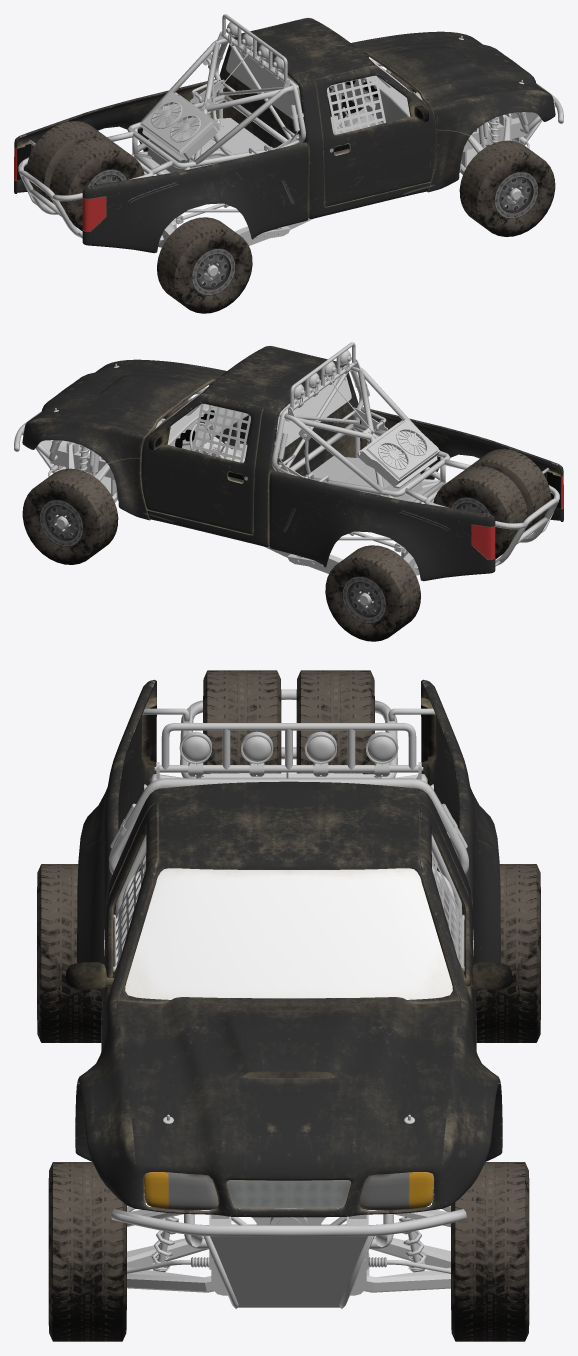
The model's file is truck.fbx.
The picture shows the model from 3 angles, top to bottom: view 1: azimuth 30°, elevation 25°; view 2: azimuth 150°, elevation 25°; view 3: azimuth 270°, elevation 25°; orthographic projection. The views are drawn at different scales.
Parts seen in each view (by area): view 1: rear right panel, truck, hood, right door, tubular frame, front wheels, rear wheels, backup wheels, radiator, rear left panel, window net.001, fuel tank (+4 smaller); view 2: rear left panel, truck, hood, left door, tubular frame, front wheels, rear wheels, backup wheels, radiator, rear right panel, window net, fuel tank (+4 smaller); view 3: hood, truck, front wheels, tubular frame, rear wheels, backup wheels, skidplate, rear right panel, rear left panel, right door, left door, bottom control arm (+7 smaller).
Part boxes in pixels (left/top/right/bottom): rear right panel: left=82, top=142, right=308, bottom=253; truck: left=219, top=18, right=470, bottom=218; hood: left=351, top=31, right=555, bottom=135; right door: left=314, top=66, right=436, bottom=206; tubular frame: left=18, top=14, right=563, bottom=238; front wheels: left=391, top=72, right=555, bottom=236; rear wheels: left=73, top=217, right=252, bottom=313; backup wheels: left=26, top=121, right=144, bottom=230; radiator: left=140, top=91, right=220, bottom=161; rear left panel: left=14, top=79, right=217, bottom=193; window net.001: left=327, top=75, right=385, bottom=134; fuel tank: left=147, top=117, right=269, bottom=172; rear left panel: left=269, top=470, right=495, bottom=581; truck: left=107, top=346, right=358, bottom=546; hood: left=22, top=359, right=226, bottom=463; left door: left=141, top=394, right=263, bottom=534; tubular frame: left=14, top=342, right=559, bottom=566; front wheels: left=22, top=400, right=186, bottom=564; rear wheels: left=325, top=545, right=503, bottom=641; backup wheels: left=433, top=449, right=551, bottom=558; radiator: left=357, top=419, right=439, bottom=488; rear right panel: left=360, top=407, right=563, bottom=521; window net: left=192, top=403, right=250, bottom=462; fuel tank: left=311, top=456, right=422, bottom=500; hood: left=77, top=997, right=500, bottom=1217; truck: left=75, top=781, right=502, bottom=1161; front wheels: left=48, top=1162, right=529, bottom=1341; tubular frame: left=109, top=689, right=468, bottom=1308; rear wheels: left=37, top=864, right=540, bottom=1042; backup wheels: left=203, top=670, right=374, bottom=773; skidplate: left=210, top=1224, right=374, bottom=1307; rear right panel: left=77, top=679, right=156, bottom=996; rear left panel: left=421, top=679, right=500, bottom=996; right door: left=65, top=803, right=158, bottom=1049; left door: left=419, top=803, right=512, bottom=1049; bottom control arm: left=127, top=1236, right=450, bottom=1292.
Size of the model in its own units: 500 by 196 by 217.
